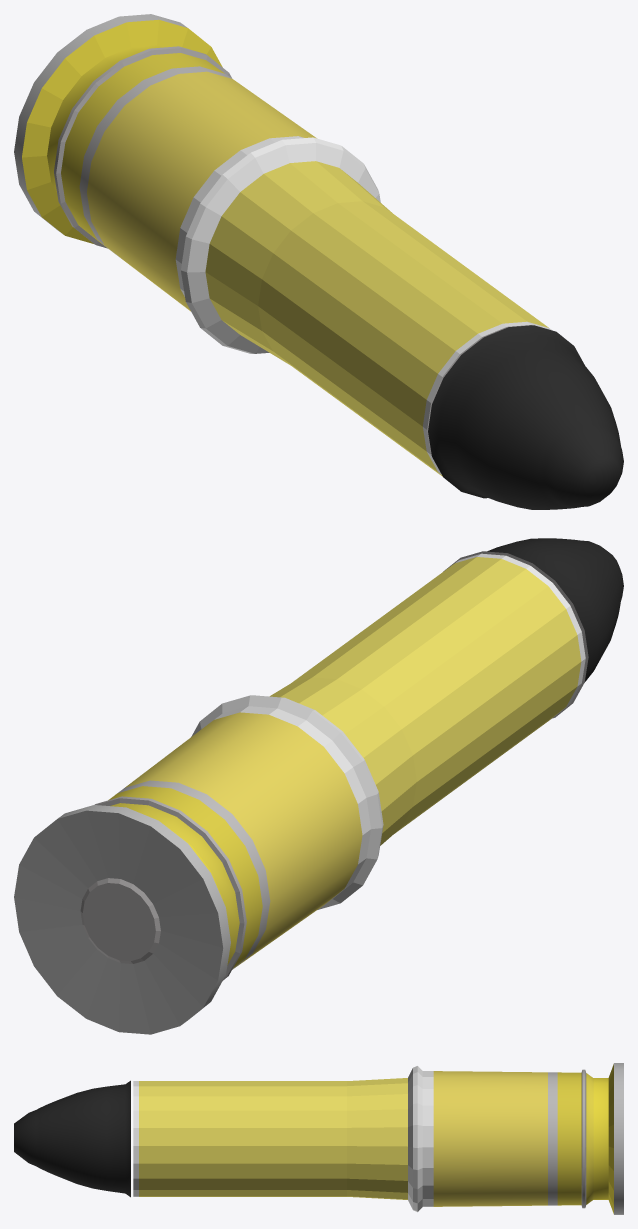
File: snaryad.fbx
3 views of the same model, one above another, from view 1: azimuth 30°, elevation 25°; view 2: azimuth 150°, elevation 25°; view 3: azimuth 270°, elevation 25° (orthographic). The views are drawn at different scales.
Visible parts, largest first — view 1: polySurface1; view 2: polySurface1; view 3: polySurface1.
Boxes of the visible parts, x1=… form: polySurface1: x1=14, y1=14, x2=623, y2=509; polySurface1: x1=14, y1=538, x2=623, y2=1034; polySurface1: x1=14, y1=1063, x2=623, y2=1214.
Size of the model in its own units: 0.3253 by 0.3253 by 1.3.
